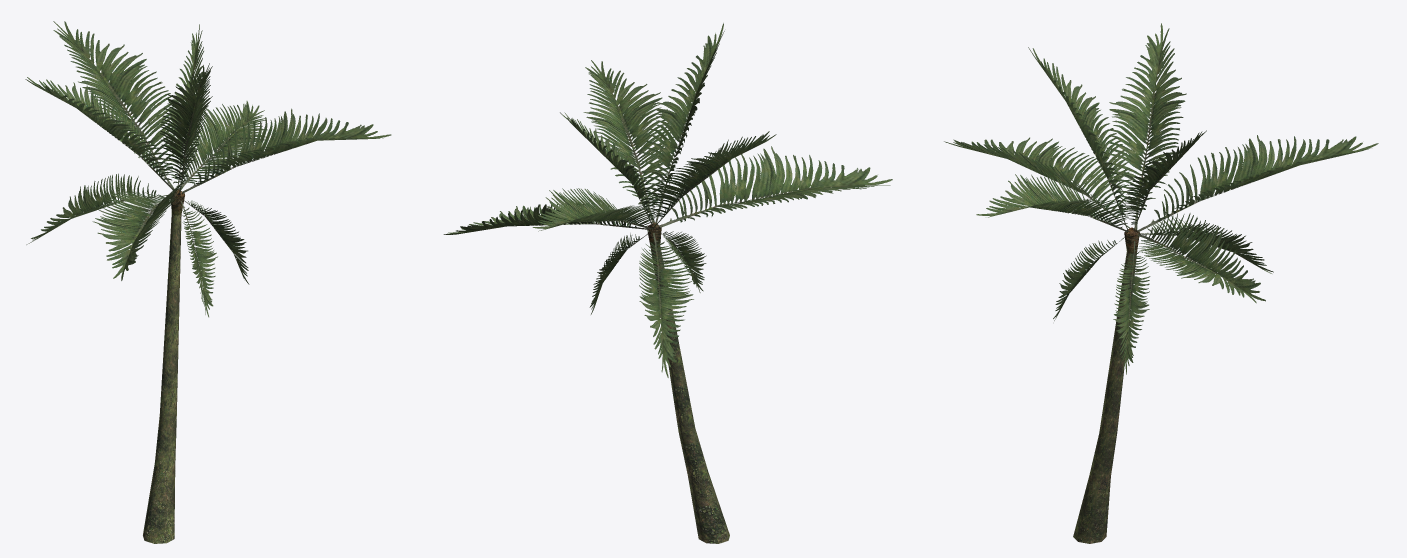
The model's file is ever_palmtree_fngi_l0.fbx.
The picture shows the model from 3 angles, left to right: view 1: azimuth 30°, elevation 25°; view 2: azimuth 150°, elevation 25°; view 3: azimuth 270°, elevation 25°; orthographic projection. The views are drawn at different scales.
Parts seen in each view (by area): view 1: mesh_node; view 2: mesh_node; view 3: mesh_node.
Boxes of the visible parts, left/top/right/bottom form: mesh_node: left=25, top=21, right=391, bottom=543; mesh_node: left=443, top=23, right=892, bottom=543; mesh_node: left=944, top=23, right=1378, bottom=543.
Size of the model in its own units: 7.92 by 12.02 by 9.79.
